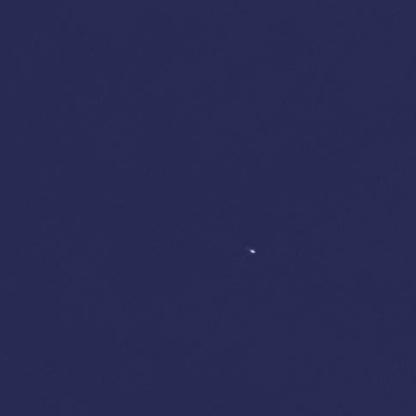ship: (243, 242, 259, 258)
